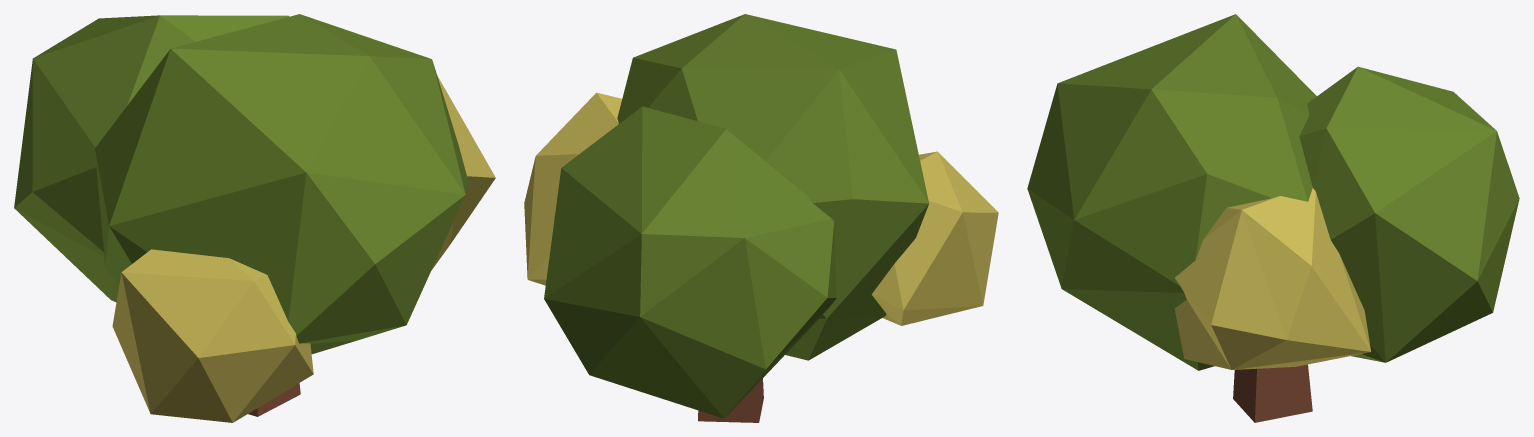
The model's file is bush_6_autumn_vc.fbx.
The picture shows the model from 3 angles, left to right: view 1: azimuth 30°, elevation 25°; view 2: azimuth 150°, elevation 25°; view 3: azimuth 270°, elevation 25°; orthographic projection. The views are drawn at different scales.
Parts seen in each view (by area): view 1: bush_6_autumn_vc; view 2: bush_6_autumn_vc; view 3: bush_6_autumn_vc.
Part boxes in pixels (x1,y1,x2,y2): bush_6_autumn_vc: (14, 14, 495, 422); bush_6_autumn_vc: (524, 14, 998, 422); bush_6_autumn_vc: (1027, 14, 1519, 422).
Size of the model in its own units: 0.8021 by 0.7161 by 0.9192.
